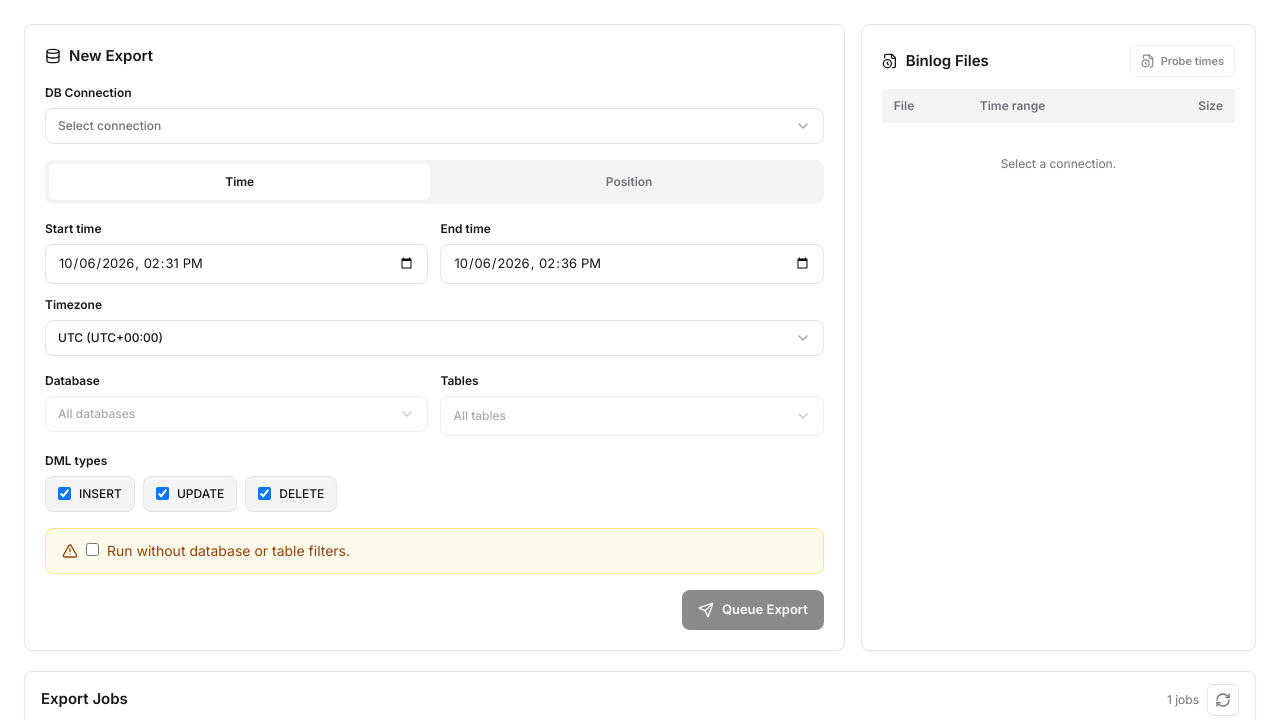
it: BinlogExportPage › 未指定 database 或 table 時必須先確認風險
Expected: the heading "New Export" is shown, x1=69 y1=45 x2=153 y2=68
Click the button with aria-label "DB Connection". click: (110, 125)
box: x1=45 y1=108 x2=824 y2=144
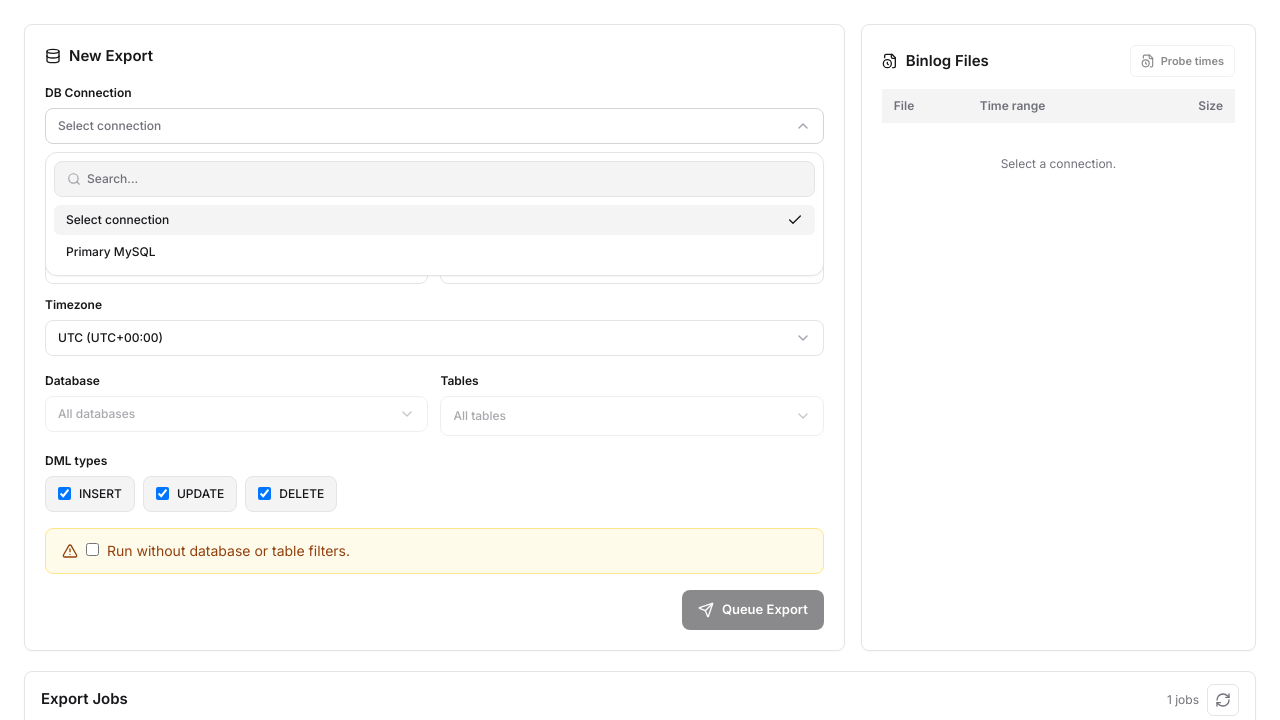
Click the option "Primary MySQL". click: (111, 251)
box: x1=54 y1=236 x2=815 y2=266
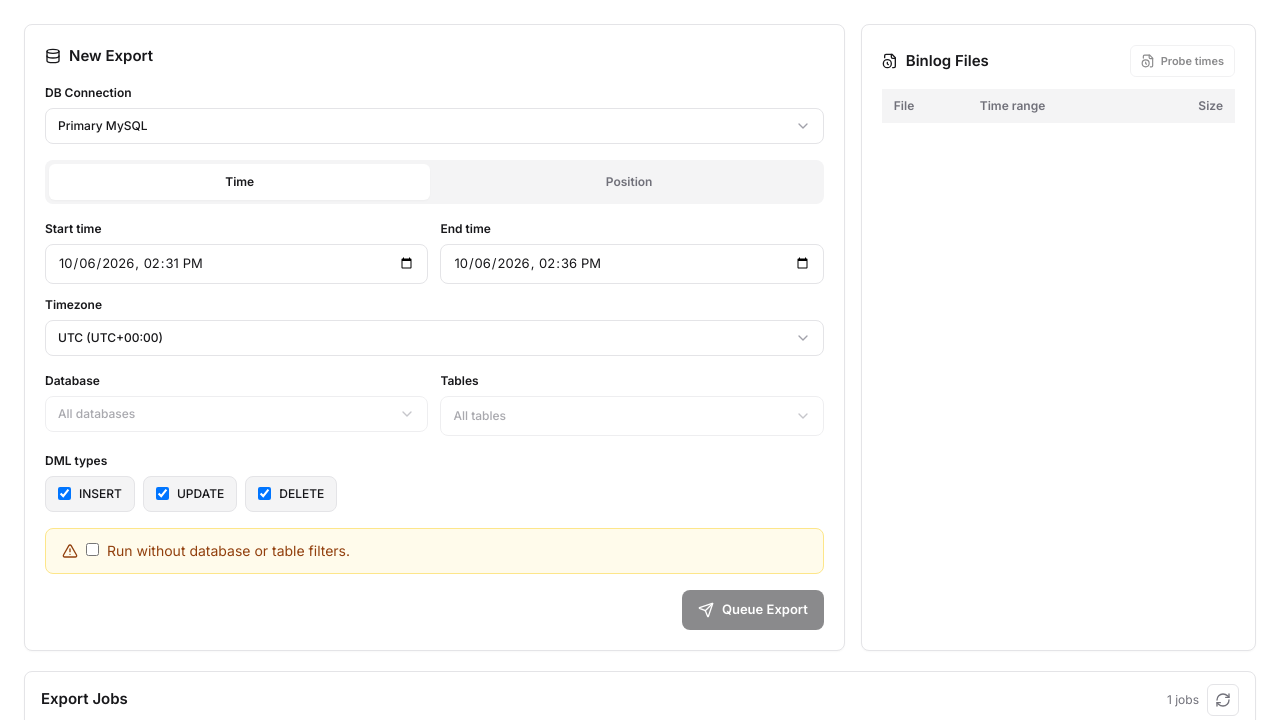
Expected: the button "Queue Export" is disabled, x1=682 y1=590 x2=824 y2=630
Click the checkbox named "Acknowledge unfiltered export". click: (92, 549)
box: x1=86 y1=542 x2=99 y2=556
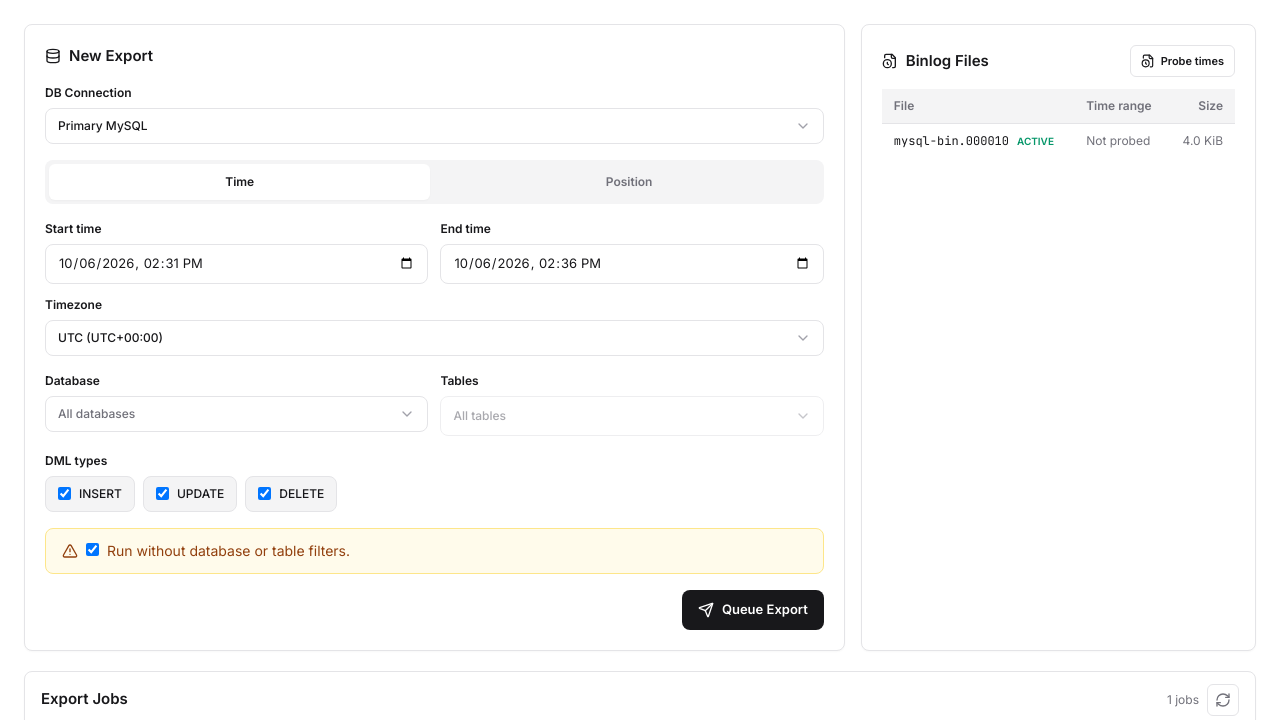
Result: the button "Queue Export" is enabled at x1=682 y1=590 x2=824 y2=630
